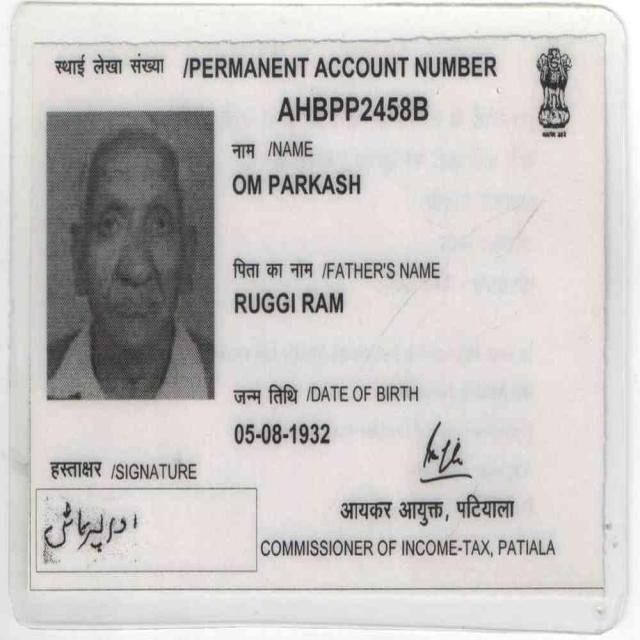pan_card: (27, 36, 607, 592)
